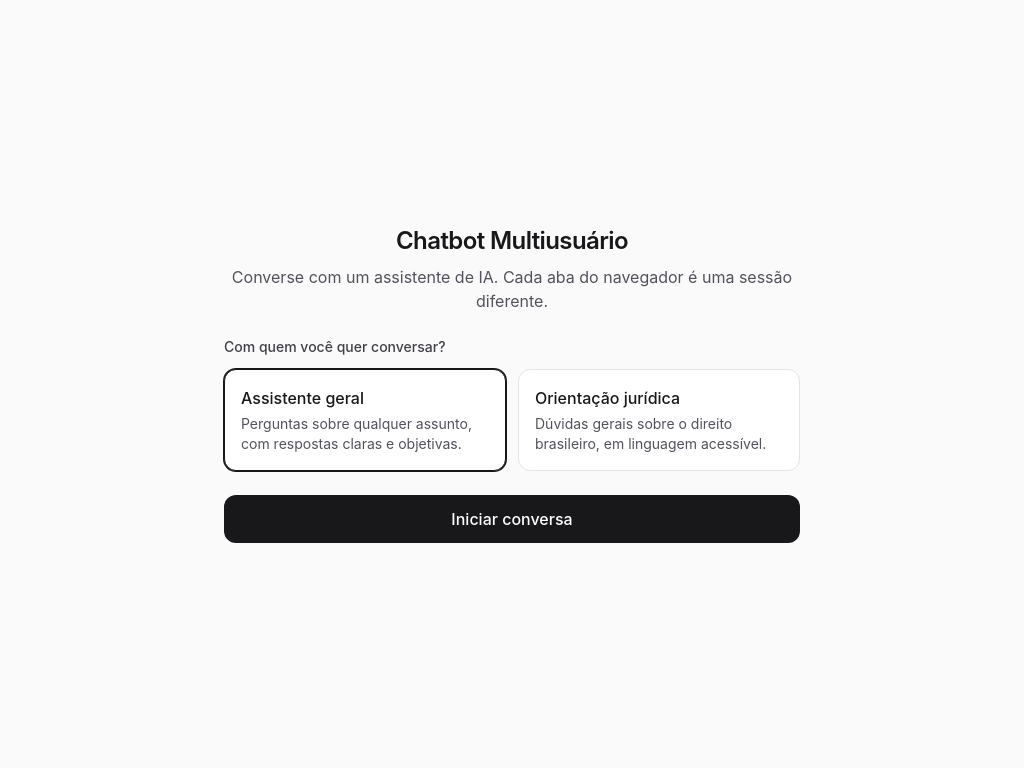
Test: iniciar conversa › cria a sessão com a persona escolhida, salva o ID e mostra o badge
Step 1. Click the radio button labelled "Orientação jurídica" → [659, 420], box 518,369 -> 800,471
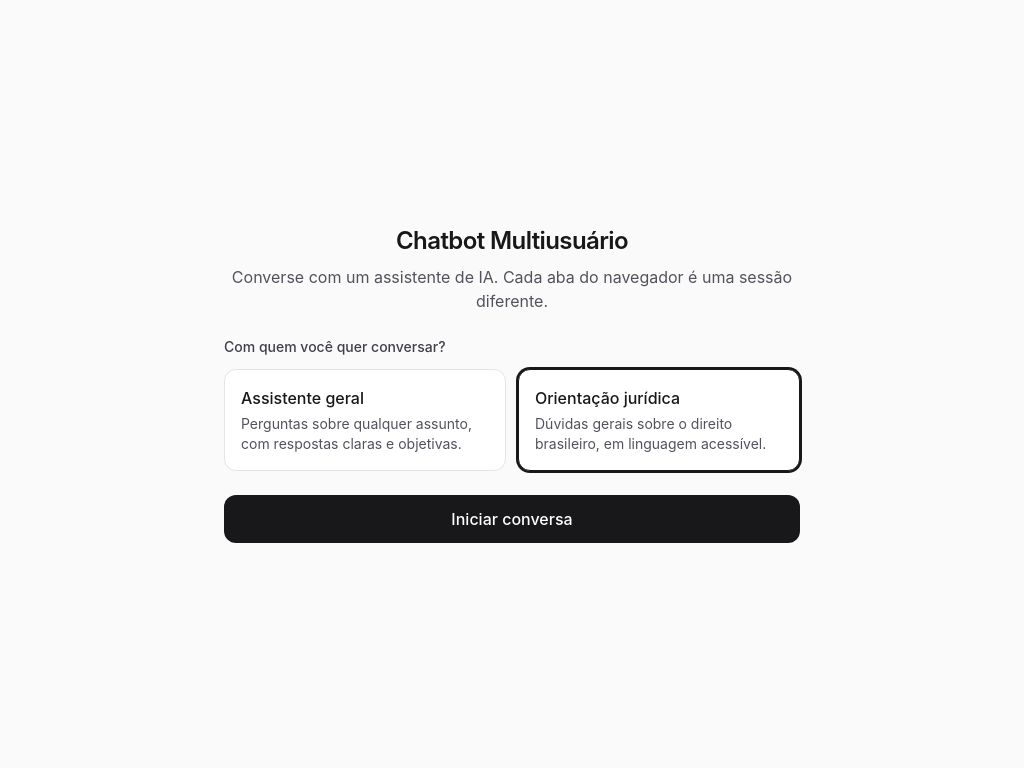
Step 2. Click the button "Iniciar conversa" → [512, 519], box 224,495 -> 800,543
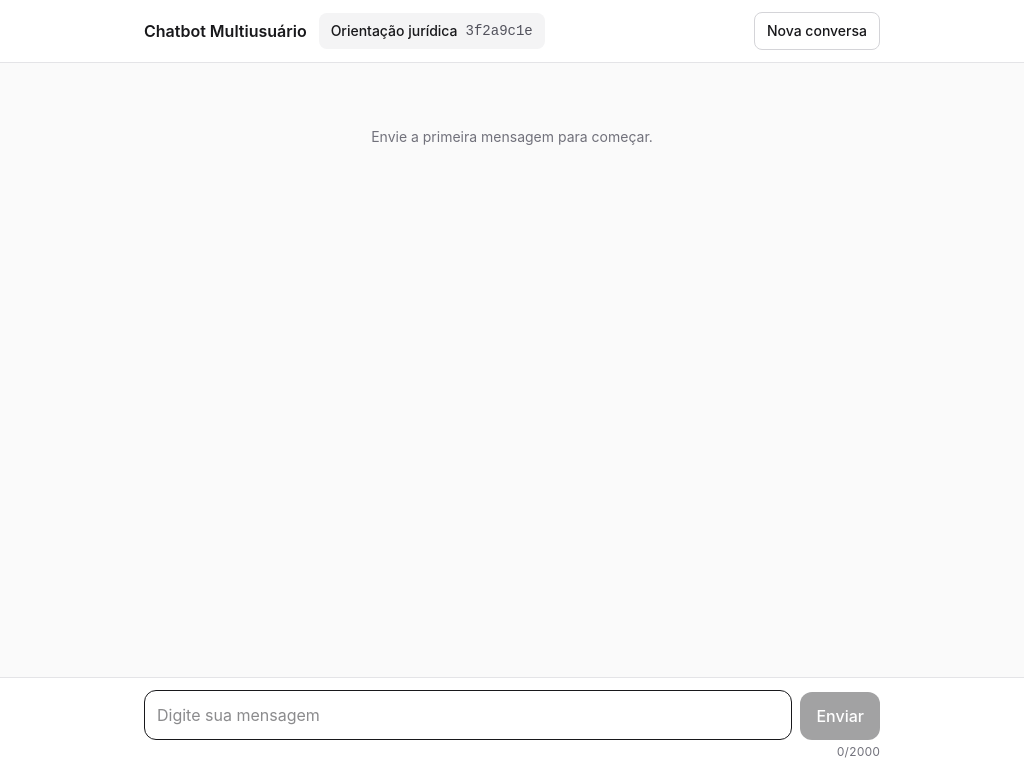
Now the text "3f2a9c1e" is shown, box 466,21 -> 533,41
